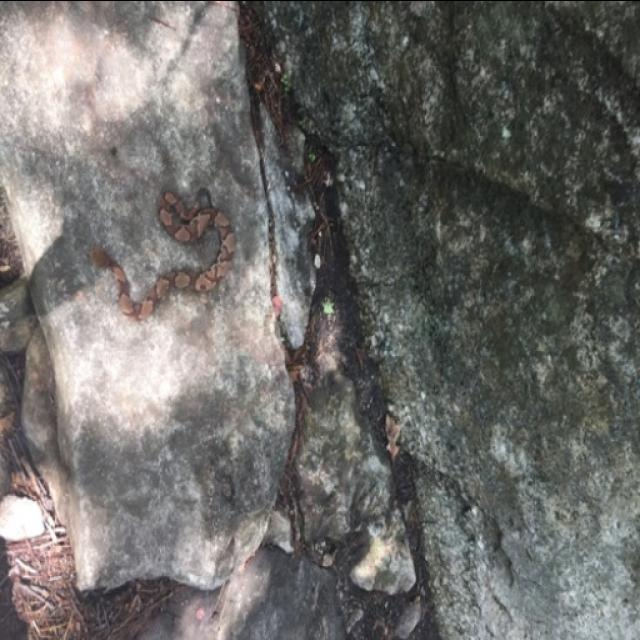snake: (92, 169, 247, 331)
